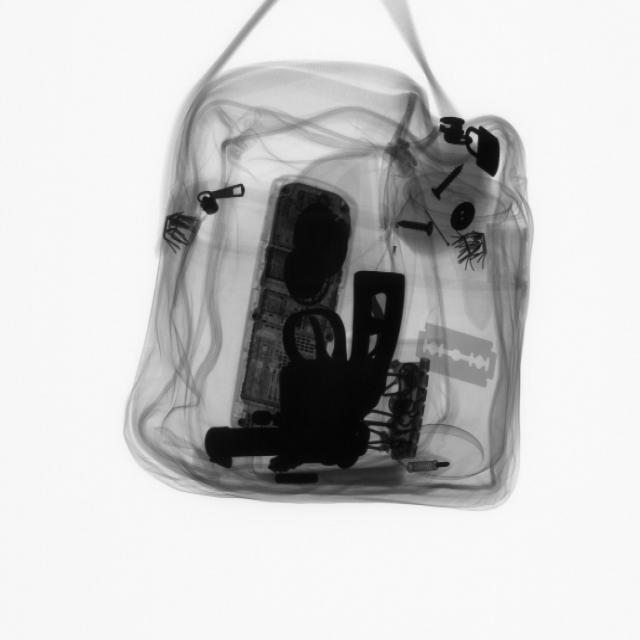BLADE: (414, 315, 505, 391)
GUN: (207, 260, 403, 478)
SCREW: (430, 164, 470, 205), (391, 215, 439, 242)
